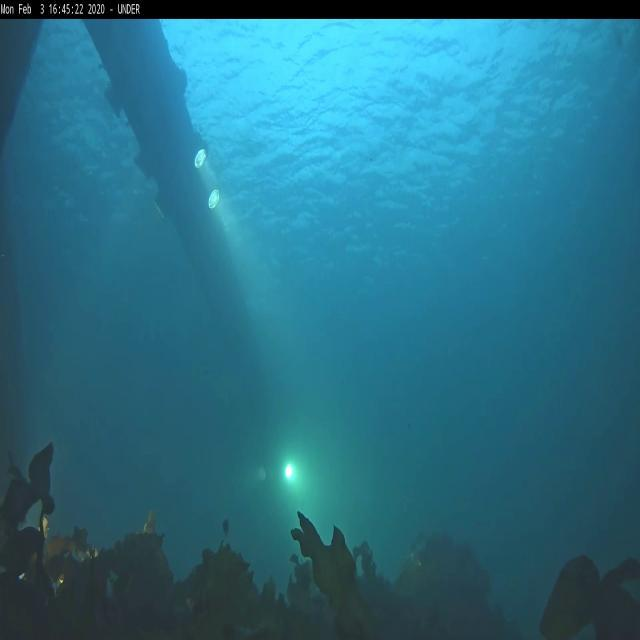fish: (220, 516, 230, 536)
